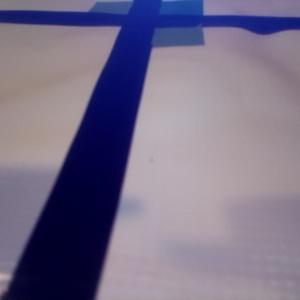bottom_right: (121, 16, 204, 47)
top_left: (89, 1, 158, 25)
top_right: (134, 1, 204, 26)
